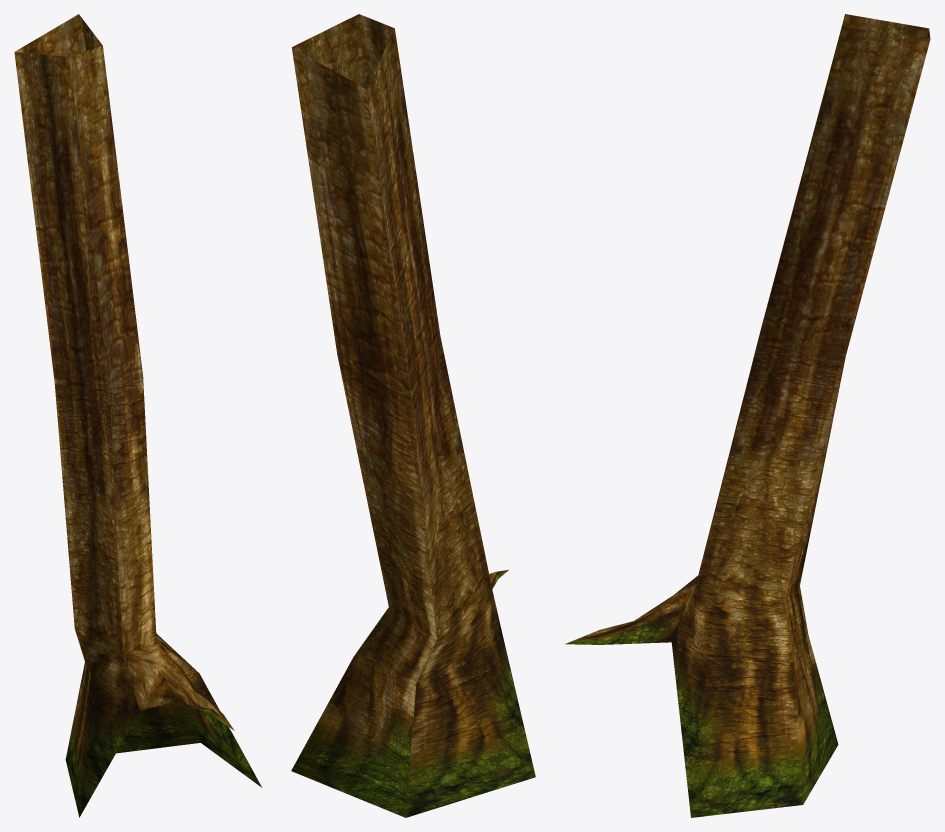
Rendered from treeTripDownHorz_prefab.obj.
3 views of the same model, side by side, from view 1: azimuth 30°, elevation 25°; view 2: azimuth 150°, elevation 25°; view 3: azimuth 270°, elevation 25° (orthographic). The views are drawn at different scales.
Visible parts, largest first — view 1: Object106-Pivot; view 2: Object106-Pivot; view 3: Object106-Pivot.
Boxes of the visible parts, x1=… form: Object106-Pivot: x1=14, y1=14, x2=261, y2=817; Object106-Pivot: x1=291, y1=14, x2=535, y2=817; Object106-Pivot: x1=565, y1=14, x2=930, y2=817.
Bounding box in the file's own units: 48.99 × 188 × 83.41.
1 material, 1 textured.
